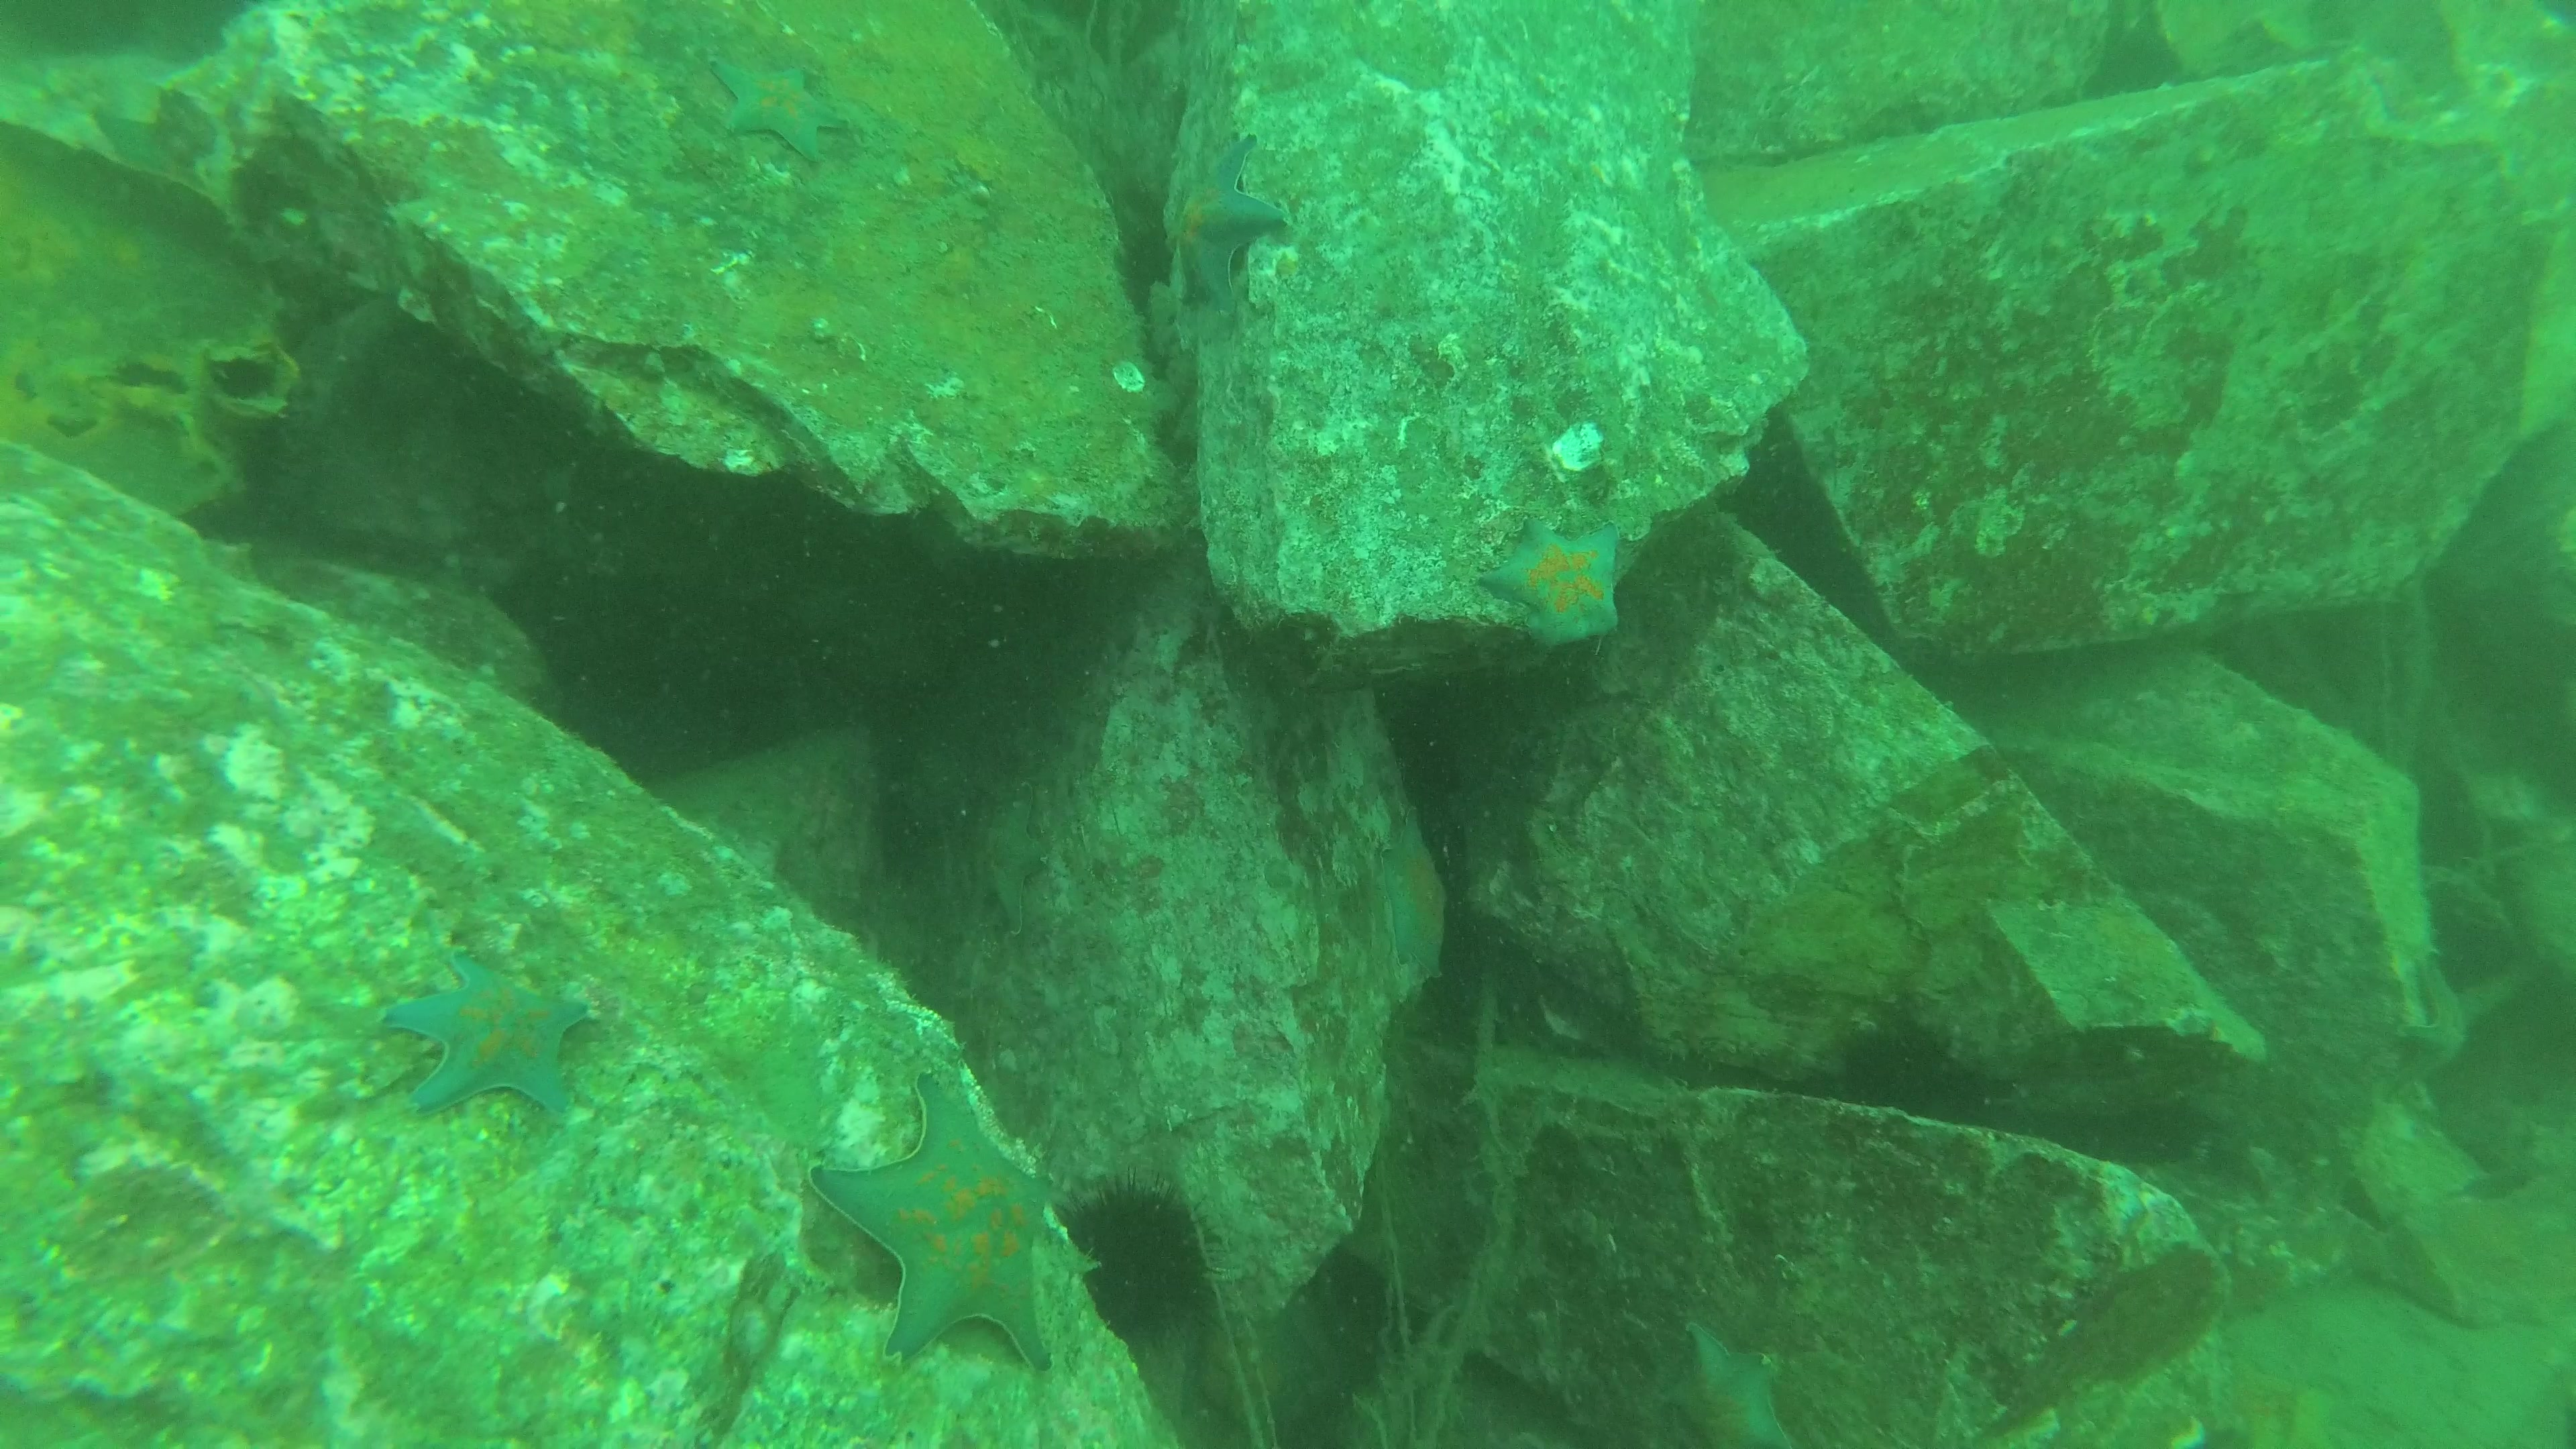echinus: (1053, 1161, 1231, 1359), (1829, 1021, 1950, 1118)
starfish: (809, 1065, 1063, 1385), (373, 943, 598, 1122), (1171, 131, 1293, 318), (1479, 517, 1626, 655), (1656, 1316, 1789, 1449), (706, 53, 855, 168), (1382, 805, 1449, 985), (977, 777, 1047, 938)
